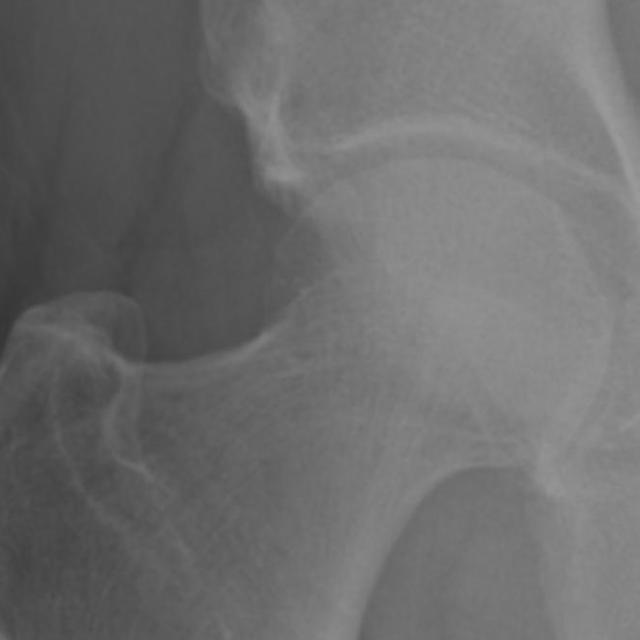Fitted_femural_head: (354, 157, 432, 354)
